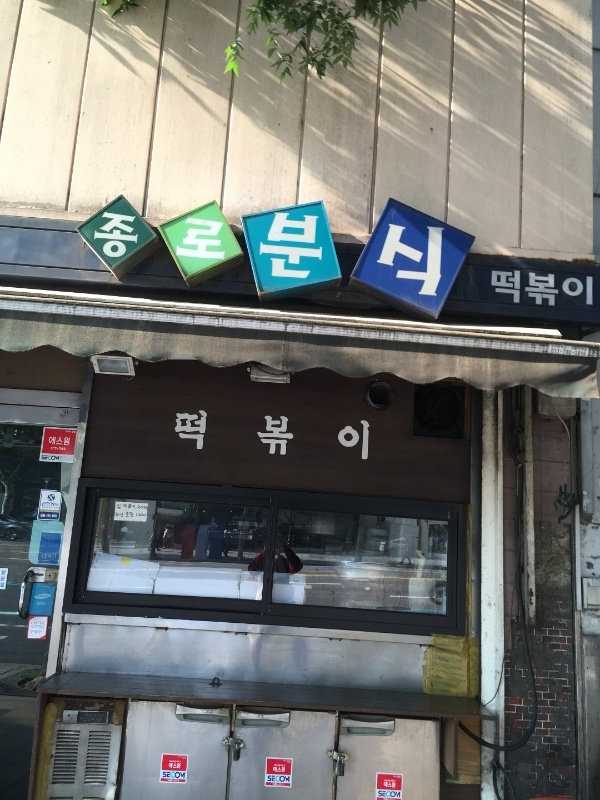text: (97, 208, 112, 303), (113, 208, 128, 303), (129, 208, 144, 303), (145, 208, 160, 303), (161, 208, 176, 303), (177, 208, 192, 303), (193, 208, 208, 303), (209, 208, 224, 303), (225, 208, 240, 303), (241, 208, 256, 303), (257, 208, 272, 303), (273, 208, 288, 303), (289, 208, 304, 303), (305, 208, 320, 303), (321, 208, 336, 303), (337, 208, 352, 303), (353, 208, 368, 303), (369, 208, 384, 303), (385, 208, 400, 303), (401, 208, 416, 303), (417, 208, 432, 303), (433, 208, 444, 303), (177, 410, 192, 465), (193, 410, 208, 465), (209, 410, 224, 465), (225, 410, 240, 465), (241, 410, 256, 465), (257, 410, 272, 465), (273, 410, 288, 465), (289, 410, 304, 465), (305, 410, 320, 465), (321, 410, 336, 465), (337, 410, 352, 465), (353, 410, 368, 465), (497, 267, 512, 310), (513, 267, 528, 310), (529, 267, 544, 310), (545, 267, 560, 310), (561, 267, 576, 310), (577, 267, 592, 310), (489, 267, 496, 310), (94, 208, 96, 303), (49, 435, 64, 447), (369, 410, 372, 465), (273, 775, 288, 784), (385, 791, 401, 799), (273, 766, 288, 774), (115, 510, 128, 518), (385, 781, 396, 789), (116, 503, 128, 510), (49, 455, 60, 462), (65, 435, 71, 447), (51, 446, 64, 451), (49, 502, 59, 508), (49, 553, 57, 560), (129, 503, 136, 510), (378, 791, 384, 799), (267, 775, 272, 784), (593, 267, 594, 310), (42, 455, 48, 462), (42, 553, 48, 560), (137, 504, 144, 510), (129, 510, 134, 518), (42, 502, 48, 508), (136, 513, 144, 517), (59, 446, 64, 451), (145, 504, 148, 510), (65, 446, 67, 451), (289, 775, 290, 784), (145, 513, 147, 517)
